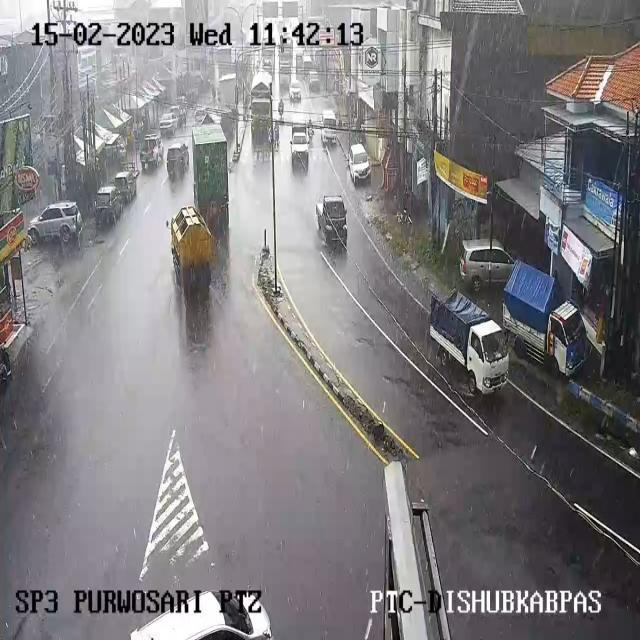Car: (130, 588, 273, 638), (459, 240, 521, 287), (26, 202, 82, 247), (315, 195, 348, 247), (93, 185, 132, 227), (347, 143, 371, 184), (140, 134, 166, 171), (166, 142, 191, 179), (113, 170, 138, 203), (290, 136, 310, 172), (217, 73, 237, 107), (321, 112, 339, 145), (293, 110, 311, 135), (159, 112, 179, 134), (169, 106, 185, 128), (279, 49, 293, 74), (289, 79, 303, 101), (115, 139, 127, 161), (205, 111, 222, 126), (308, 76, 322, 94), (194, 107, 208, 124), (282, 70, 293, 90), (302, 53, 312, 73), (356, 80, 369, 95), (295, 51, 304, 68), (177, 95, 187, 109), (262, 57, 272, 70), (331, 85, 340, 97)
Motorbike: (279, 100, 285, 116)
Truck: (507, 264, 590, 377), (428, 290, 509, 396), (191, 127, 232, 222), (168, 205, 214, 288), (249, 72, 274, 156)
